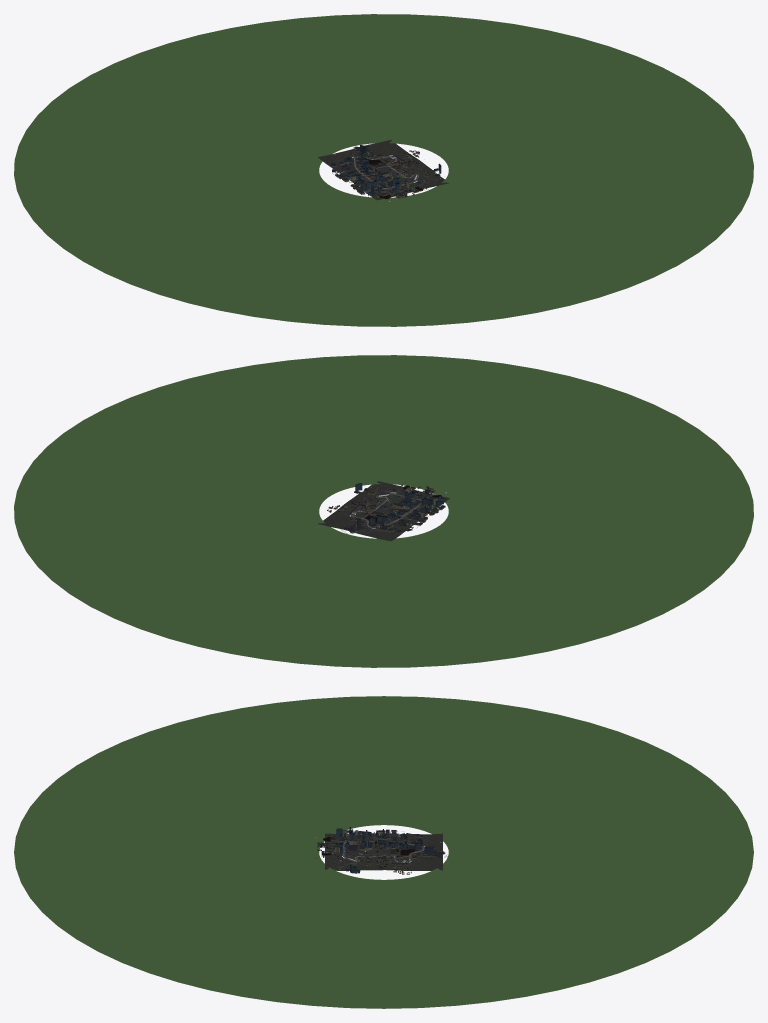
Rendered from las-vegas.glb.
3 views of the same model, one above another, from view 1: azimuth 30°, elevation 25°; view 2: azimuth 150°, elevation 25°; view 3: azimuth 270°, elevation 25° (orthographic).
Parts seen in each view (by area): view 1: RL_Circuit; view 2: RL_Circuit; view 3: RL_Circuit.
Part boxes in pixels (bbox=[...]): RL_Circuit: bbox=[14, 14, 753, 326]; RL_Circuit: bbox=[14, 355, 753, 667]; RL_Circuit: bbox=[14, 696, 753, 1008].
Size of the model in its own units: 18000 by 212 by 18000.
99 materials, 66 textured.
